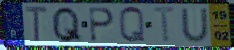P: (88, 6, 116, 44)
Q: (50, 6, 85, 44), (118, 5, 148, 45)
T: (152, 6, 179, 45), (24, 4, 50, 44)
U: (179, 7, 211, 44)
